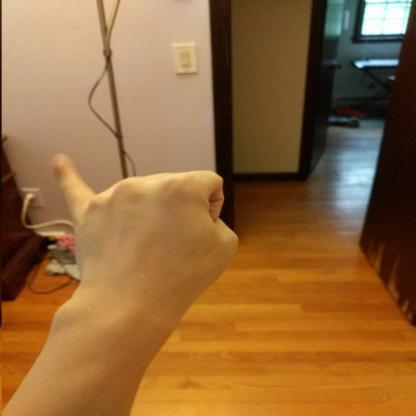J: (42, 146, 245, 308)
